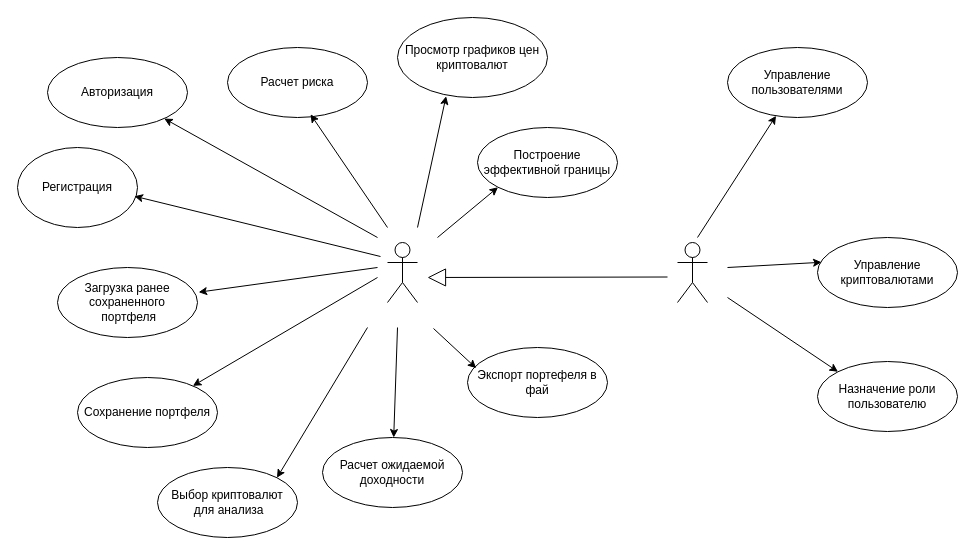
Image size: 975x555. Some labels were removed from this diagram. Each missing label, with the box of its shape:
Администратор: (676, 242, 708, 302)
Пользователь: (386, 242, 418, 302)
